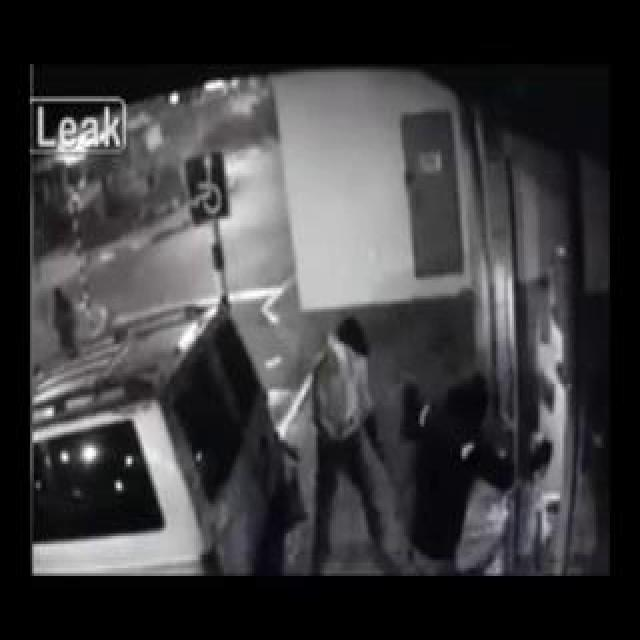burglary: (182, 284, 577, 607)
